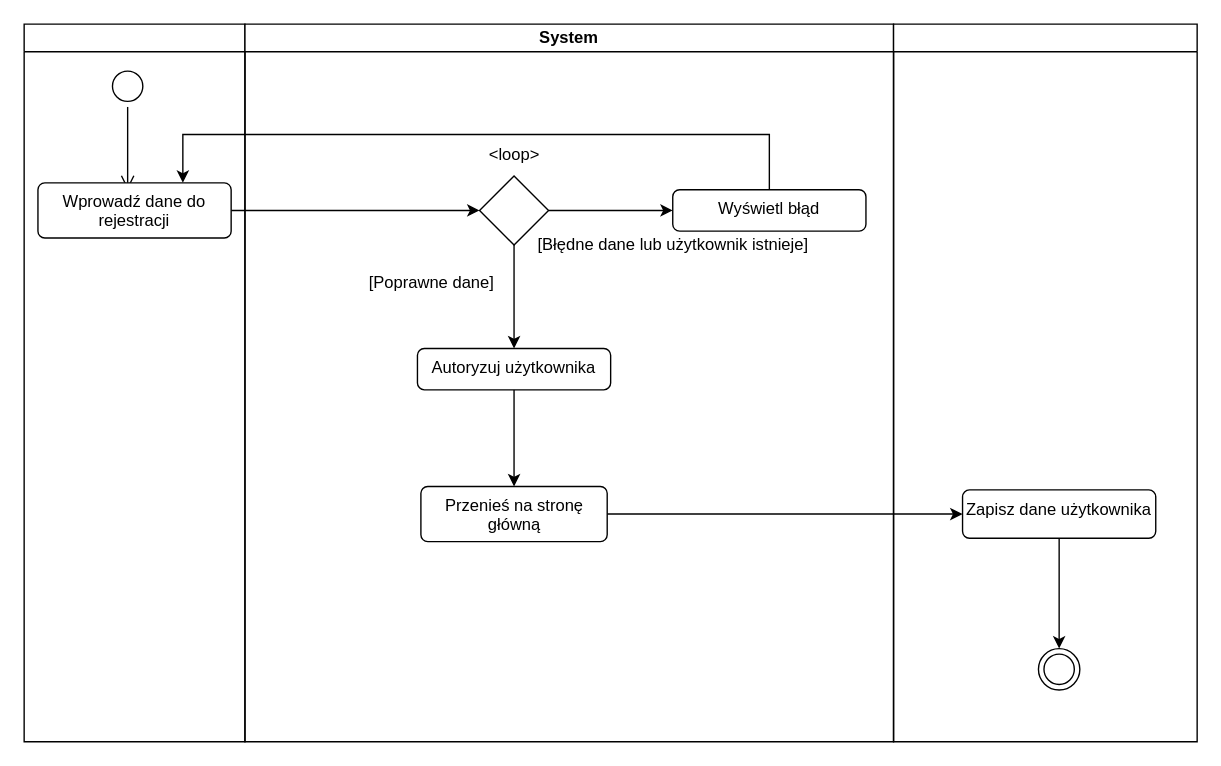
Image size: 1221x766. Some labels were removed from this diagram. Each missing label, with the centre of its shape:
"Serwer" goes at pixel 1044 382.
"Użytkownik" goes at pixel 134 382.
